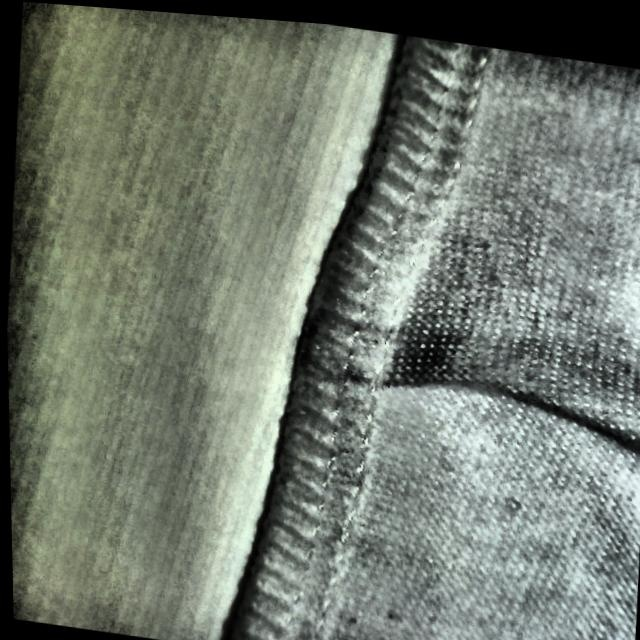seam: (279, 261, 636, 482)
